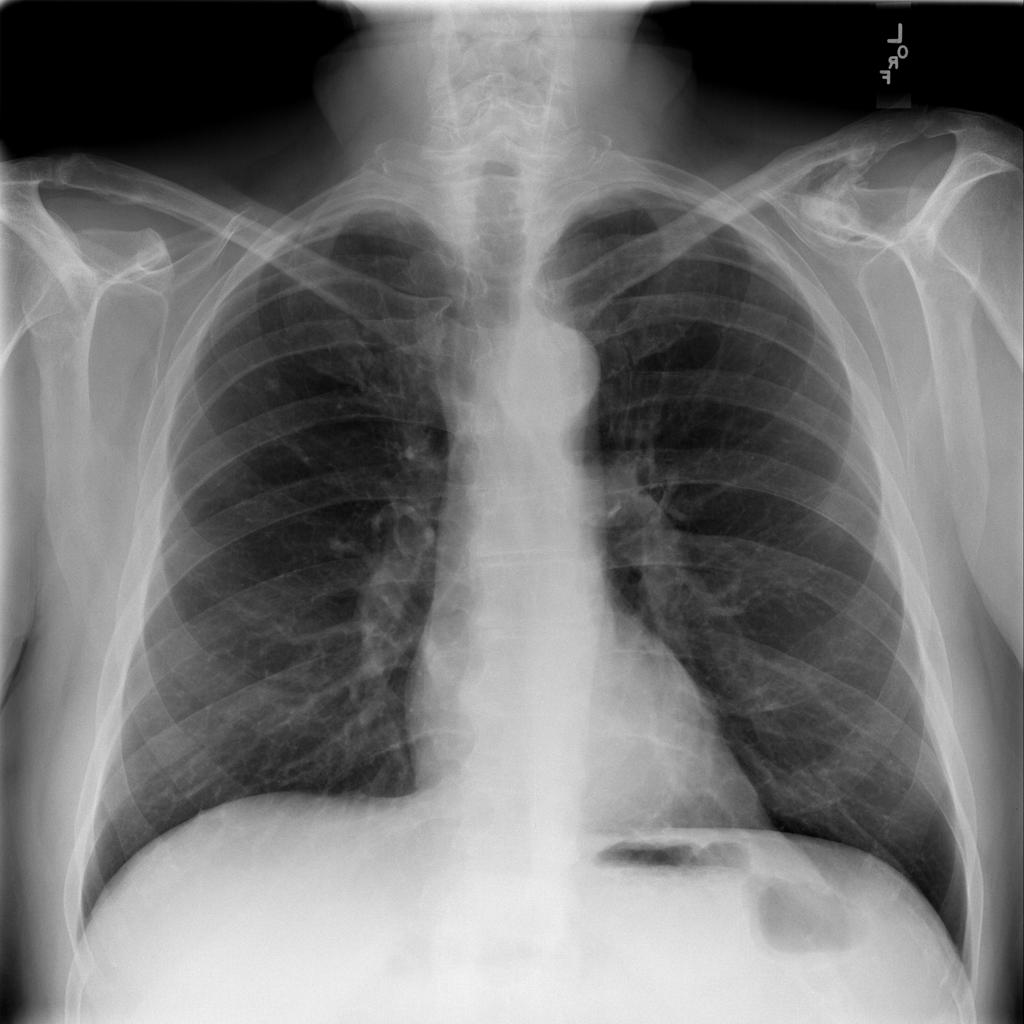nodule: (244, 358, 298, 408)
